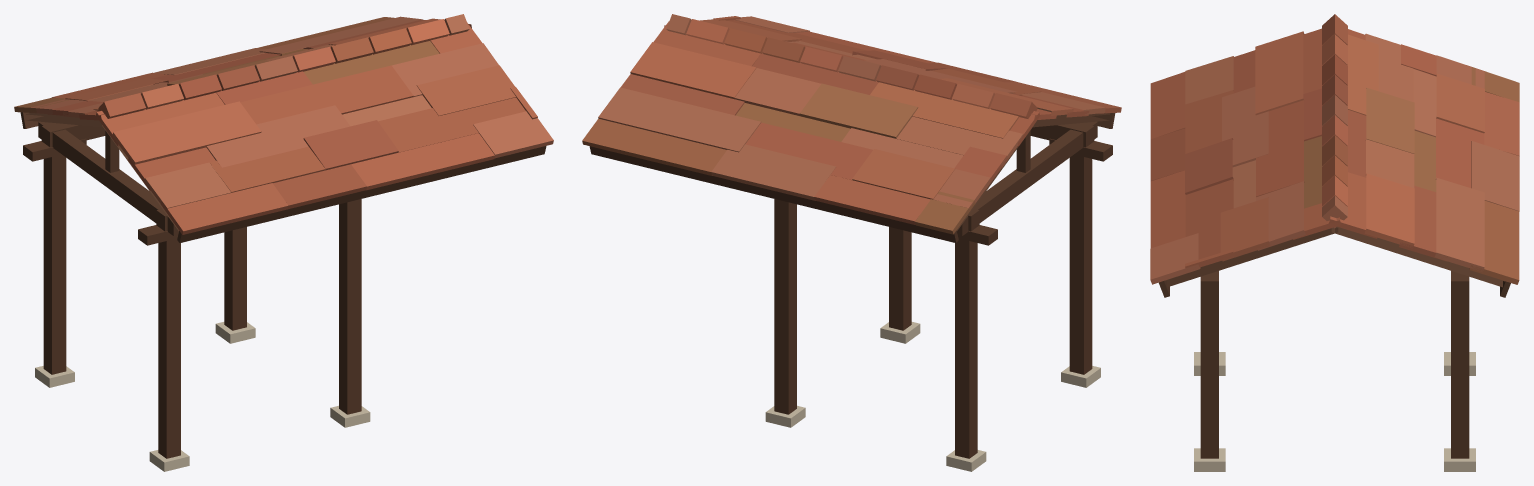
File: corredor_cubierto.glb
3 renders of one model, left to right at view 1: azimuth 30°, elevation 25°; view 2: azimuth 150°, elevation 25°; view 3: azimuth 270°, elevation 25°, orthographic. The views are drawn at different scales.
Parts seen in each view (by area): view 1: corredor_cubierto_fijo; view 2: corredor_cubierto_fijo; view 3: corredor_cubierto_fijo.
Part boxes in pixels (x1,y1,x2,y2): corredor_cubierto_fijo: [14, 14, 553, 471]; corredor_cubierto_fijo: [582, 14, 1121, 471]; corredor_cubierto_fijo: [1150, 14, 1519, 471].
Bounding box in the file's own units: 4.25 × 3.4 × 3.25.
